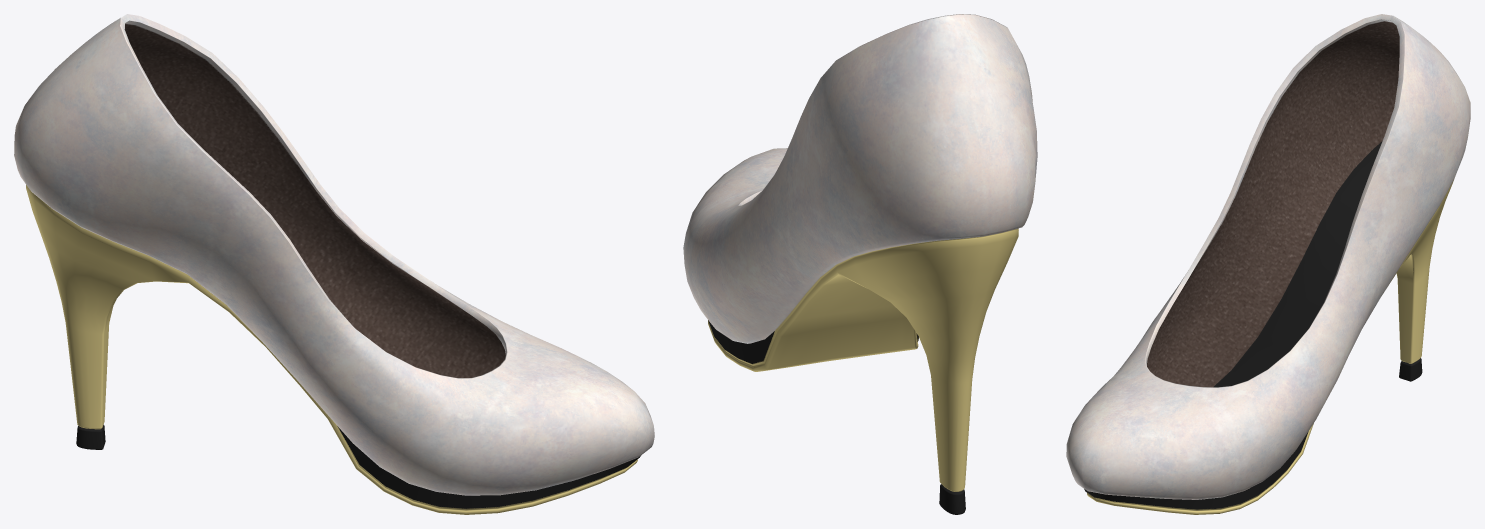
The model's file is white_heels.gltf.
The picture shows the model from 3 angles, left to right: view 1: azimuth 30°, elevation 25°; view 2: azimuth 150°, elevation 25°; view 3: azimuth 270°, elevation 25°; orthographic projection. The views are drawn at different scales.
Visible parts, largest first — view 1: white_heels; view 2: white_heels; view 3: white_heels.
Part boxes in pixels (x1=…): white_heels: x1=14, y1=14, x2=654, y2=514; white_heels: x1=683, y1=14, x2=1037, y2=514; white_heels: x1=1066, y1=14, x2=1470, y2=514.
Bounding box in the file's own units: 1.12 × 1.03 × 1.02.
Materials: 1 (1 with a texture image).
